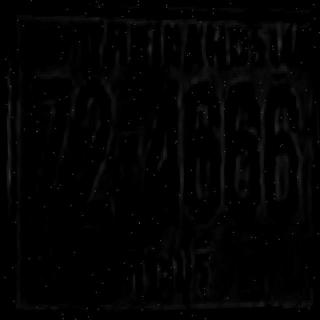N02: (71, 101, 112, 219), (73, 78, 111, 204), (74, 79, 112, 195), (71, 116, 111, 219)
N04: (140, 80, 181, 220)
N06: (180, 80, 222, 219), (220, 80, 261, 219)
N07: (34, 77, 72, 168), (33, 76, 70, 157)
P60: (112, 234, 216, 310)
